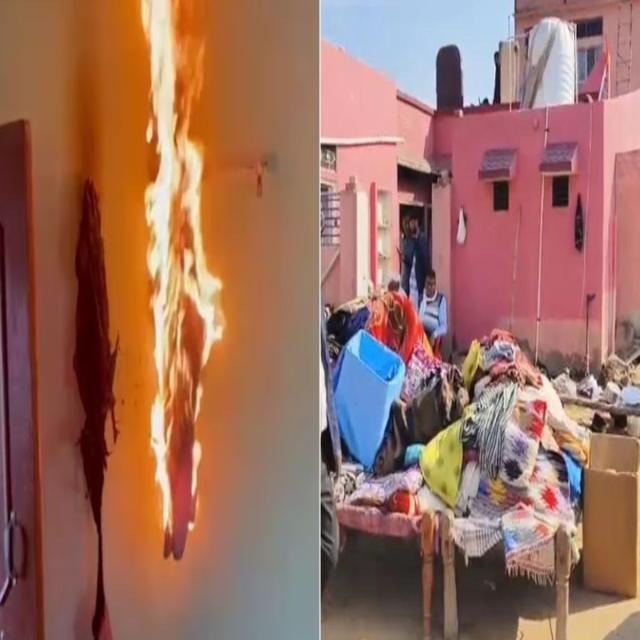fire: (144, 149, 181, 227), (193, 220, 223, 299), (176, 132, 203, 208), (146, 228, 182, 280), (141, 0, 172, 57), (150, 394, 174, 464), (151, 31, 176, 97), (152, 93, 178, 154), (155, 463, 173, 537), (153, 305, 173, 370)
